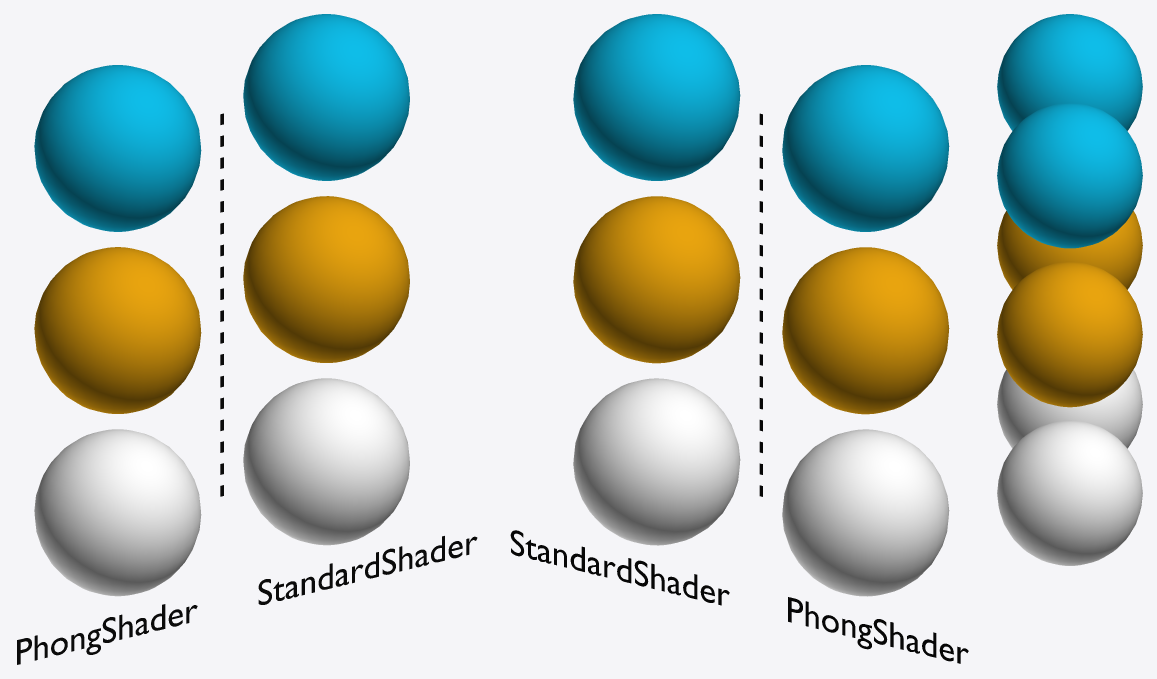
Rendered from ShaderTest.glb.
3 renders of one model, left to right at view 1: azimuth 30°, elevation 25°; view 2: azimuth 150°, elevation 25°; view 3: azimuth 270°, elevation 25°, orthographic. The views are drawn at different scales.
Visible parts, largest first — view 1: Sphere.004, Sphere.005, Sphere, Sphere.011, Sphere.003, Sphere.001, Text.001, Text; view 2: Sphere.011, Sphere.001, Sphere.005, Sphere, Sphere.003, Sphere.004, Text.003, Text.002; view 3: Sphere, Sphere.003, Sphere.001, Sphere.004, Sphere.005, Sphere.011.
Part boxes in pixels (box(x1,y1,x2,y2)): Sphere.004: box(34, 65, 201, 231); Sphere.005: box(34, 247, 201, 413); Sphere: box(243, 378, 409, 545); Sphere.011: box(34, 429, 201, 596); Sphere.003: box(243, 14, 409, 180); Sphere.001: box(243, 196, 409, 362); Text.001: box(258, 536, 477, 604); Text: box(17, 604, 197, 664); Sphere.011: box(782, 429, 949, 596); Sphere.001: box(573, 196, 740, 363); Sphere.005: box(782, 247, 949, 414); Sphere: box(573, 378, 740, 545); Sphere.003: box(573, 14, 740, 180); Sphere.004: box(782, 65, 949, 231); Text.003: box(510, 530, 729, 605); Text.002: box(788, 597, 968, 663); Sphere: box(997, 420, 1142, 565); Sphere.003: box(997, 103, 1142, 248); Sphere.001: box(997, 261, 1142, 407); Sphere.004: box(997, 14, 1142, 130); Sphere.005: box(997, 211, 1142, 289); Sphere.011: box(997, 369, 1142, 448).
Bounding box in the file's own units: 0.133 × 0.1581 × 0.0416.
